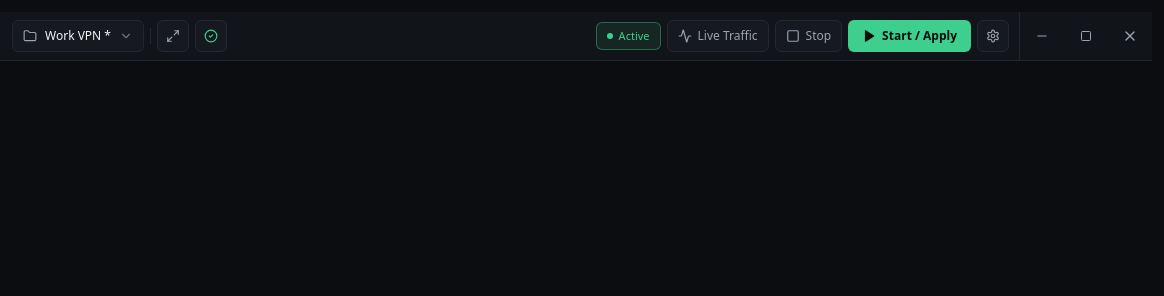
Test: TopBar › shows dirty indicator, guards unsaved switch, and allows Switch & Apply when active
Later steps or results of the test are not shown.
Expected: the text "Active" is shown, [619, 28, 650, 44]
Click the button with aria-label "Workflow Switcher".
click(78, 36)  # box [12, 20, 144, 52]
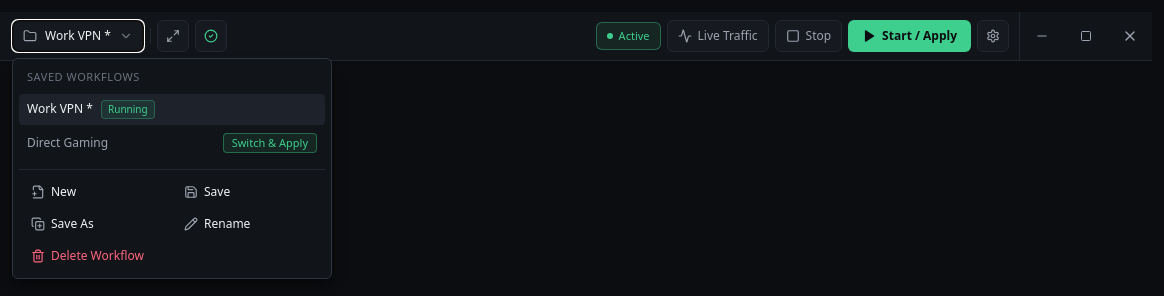
// Switch & Apply button appears for non-active workflow while routing is active
Click the button "Switch & Apply".
click(270, 143)  # box [223, 133, 317, 154]
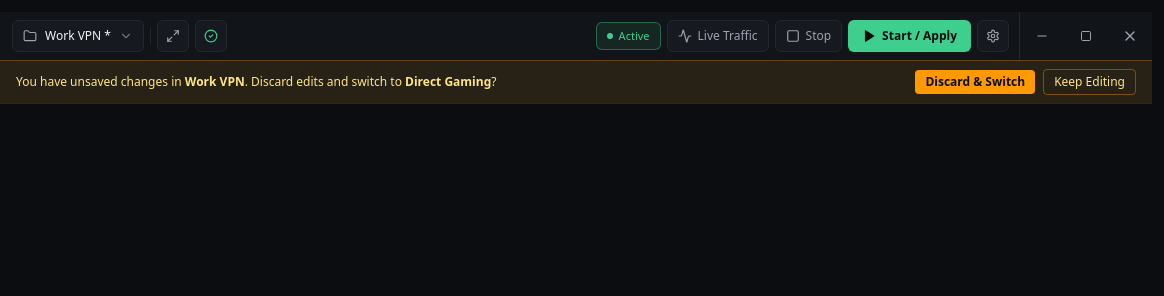
Expected: the text "You have unsaved changes" is shown, [16, 73, 185, 90]
